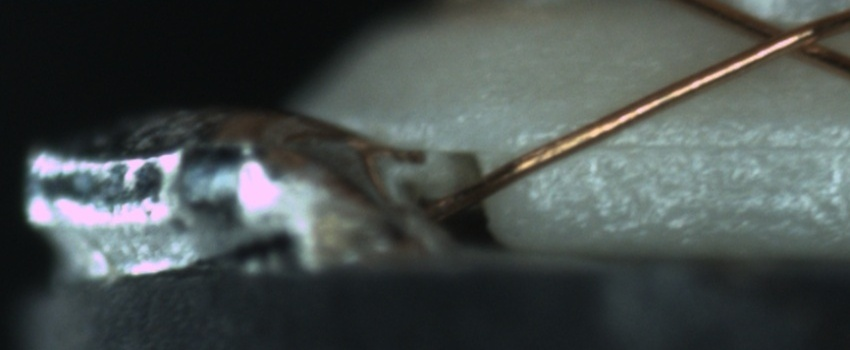CL: (727, 8, 846, 66)
DL: (545, 114, 848, 177)
